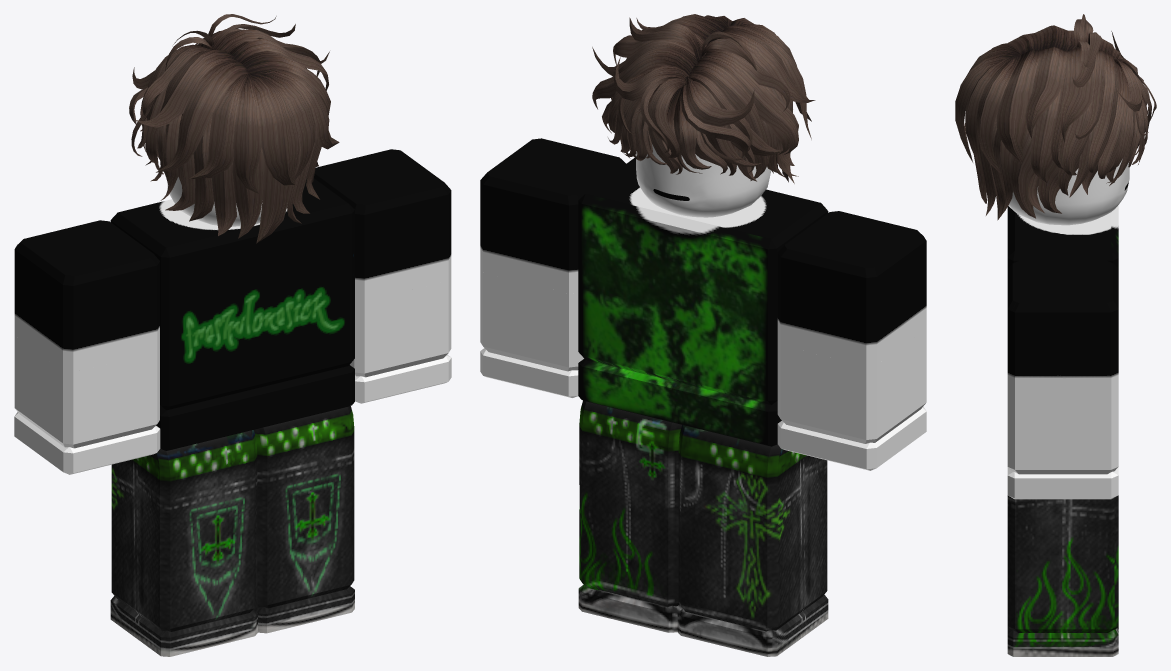
The model's file is modelo.obj.
3 renders of one model, left to right at view 1: azimuth 30°, elevation 25°; view 2: azimuth 150°, elevation 25°; view 3: azimuth 270°, elevation 25°, orthographic. The views are drawn at different scales.
Visible parts, largest first — view 1: Avatar38430174475, Handle1, Avatar38430174478, Avatar38430174477, Avatar384301744712, Avatar384301744711, Avatar38430174474, Avatar384301744710, Avatar384301744713, Avatar384301744715, Avatar38430174479, Avatar384301744714 (+4 smaller); view 2: Avatar38430174475, Handle1, Avatar38430174478, Avatar38430174477, Avatar384301744712, Avatar384301744711, Avatar38430174474, Avatar384301744710, Avatar384301744713, Avatar384301744715, Avatar38430174479, Avatar38430174471 (+4 smaller); view 3: Handle1, Avatar384301744712, Avatar384301744710, Avatar38430174479, Avatar38430174475, Avatar384301744713, Avatar38430174471, Avatar38430174476, Avatar38430174473.
Part boxes in pixels (x1,y1,x2,y2): Avatar38430174475: (110,178,354,410); Handle1: (129,14,339,243); Avatar38430174478: (14,220,159,372); Avatar38430174477: (111,501,257,631); Avatar384301744712: (314,149,451,301); Avatar384301744711: (111,430,257,536); Avatar38430174474: (14,336,159,448); Avatar384301744710: (256,489,354,608); Avatar384301744713: (254,406,354,513); Avatar384301744715: (156,365,354,450); Avatar38430174479: (350,277,451,377); Avatar384301744714: (14,412,160,474); Avatar38430174475: (578,158,828,404); Handle1: (592,14,815,183); Avatar38430174478: (777,211,926,366); Avatar38430174477: (678,497,827,631); Avatar384301744712: (480,138,625,293); Avatar384301744711: (678,425,827,534); Avatar38430174474: (777,329,926,443); Avatar384301744710: (579,486,679,607); Avatar384301744713: (579,400,681,510); Avatar384301744715: (578,358,781,446); Avatar38430174479: (480,269,583,371); Avatar38430174471: (636,144,771,217); Handle1: (955,14,1156,220); Avatar384301744712: (1007,260,1118,397); Avatar384301744710: (1007,535,1118,632); Avatar38430174479: (1007,395,1118,474); Avatar38430174475: (1007,205,1118,267); Avatar384301744713: (1007,495,1118,537); Avatar38430174471: (1008,159,1129,225); Avatar38430174476: (1007,467,1118,499); Avatar38430174473: (1007,626,1118,656).
Bounding box in the file's own units: 4 × 5.76 × 1.81.
2 materials, 2 textured.
